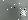person: (21, 7, 28, 19)
